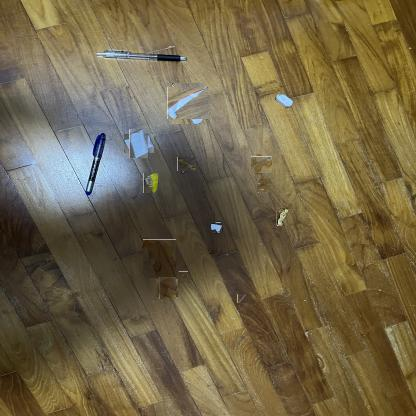dirty: (170, 85, 206, 122), (127, 131, 151, 156), (143, 173, 158, 193), (179, 156, 195, 173), (276, 208, 288, 226), (212, 222, 222, 233)
liquid: (142, 239, 177, 278), (157, 278, 177, 298), (252, 156, 271, 174), (256, 178, 272, 192), (177, 234, 186, 242), (178, 271, 188, 278), (209, 248, 215, 254)
mark: (237, 294, 247, 303)
